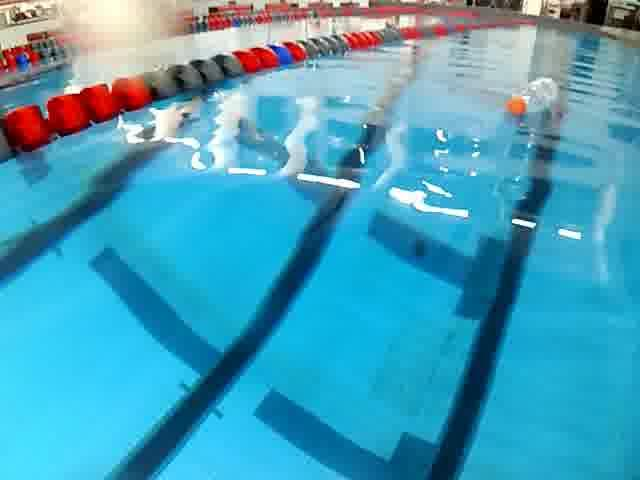Bottle: (501, 63, 569, 123)
